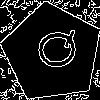Q: (27, 27, 81, 73)
